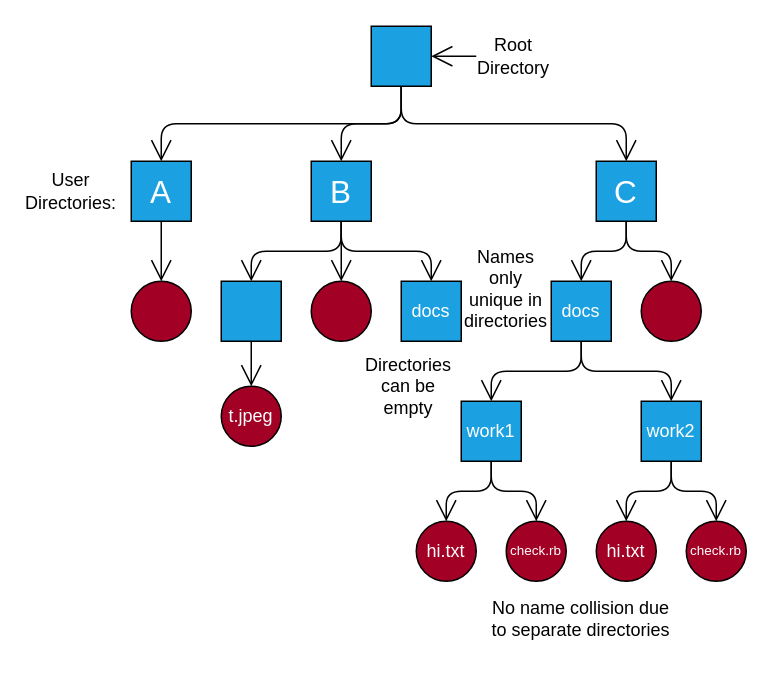
Some shapes in this 773 by 683 pixel diagram are drawn without their labels. The centre of each missing label's shape, as x and y in pixels:
"images" goes at point 250,310.
"note.tex" goes at point 160,310.
"test.c" goes at point 670,310.
"vscode" goes at point 340,310.
